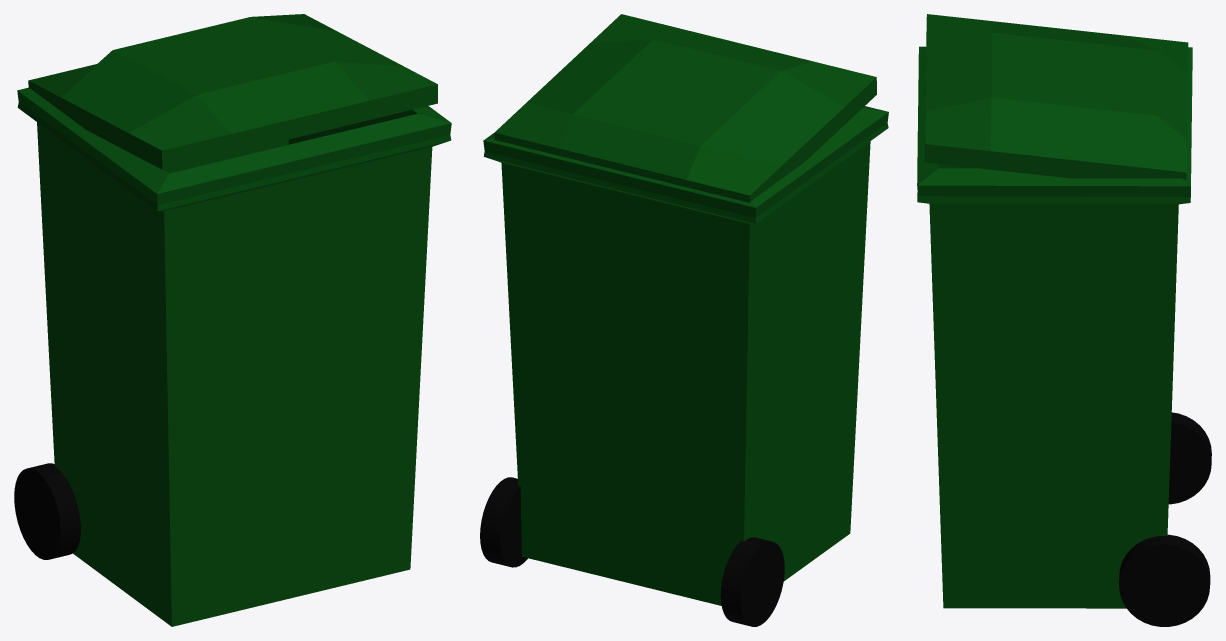
Rendered from WheelyBinGreen.fbx.
The picture shows the model from 3 angles, left to right: view 1: azimuth 30°, elevation 25°; view 2: azimuth 150°, elevation 25°; view 3: azimuth 270°, elevation 25°; orthographic projection. The views are drawn at different scales.
Parts seen in each view (by area): view 1: WheelyBinGreen, WheelyBinLid, WheelyBinWheels; view 2: WheelyBinGreen, WheelyBinLid, WheelyBinWheels; view 3: WheelyBinGreen, WheelyBinLid, WheelyBinWheels.
Part boxes in pixels (x1,y1,x2,y2): WheelyBinGreen: (17, 87, 451, 626); WheelyBinLid: (28, 14, 437, 169); WheelyBinWheels: (14, 463, 80, 559); WheelyBinGreen: (483, 106, 888, 605); WheelyBinLid: (494, 14, 876, 202); WheelyBinWheels: (480, 477, 784, 626); WheelyBinGreen: (917, 46, 1192, 608); WheelyBinLid: (924, 14, 1188, 179); WheelyBinWheels: (1119, 412, 1211, 626).
Size of the model in its own units: 56.72 by 50.64 by 93.8.
